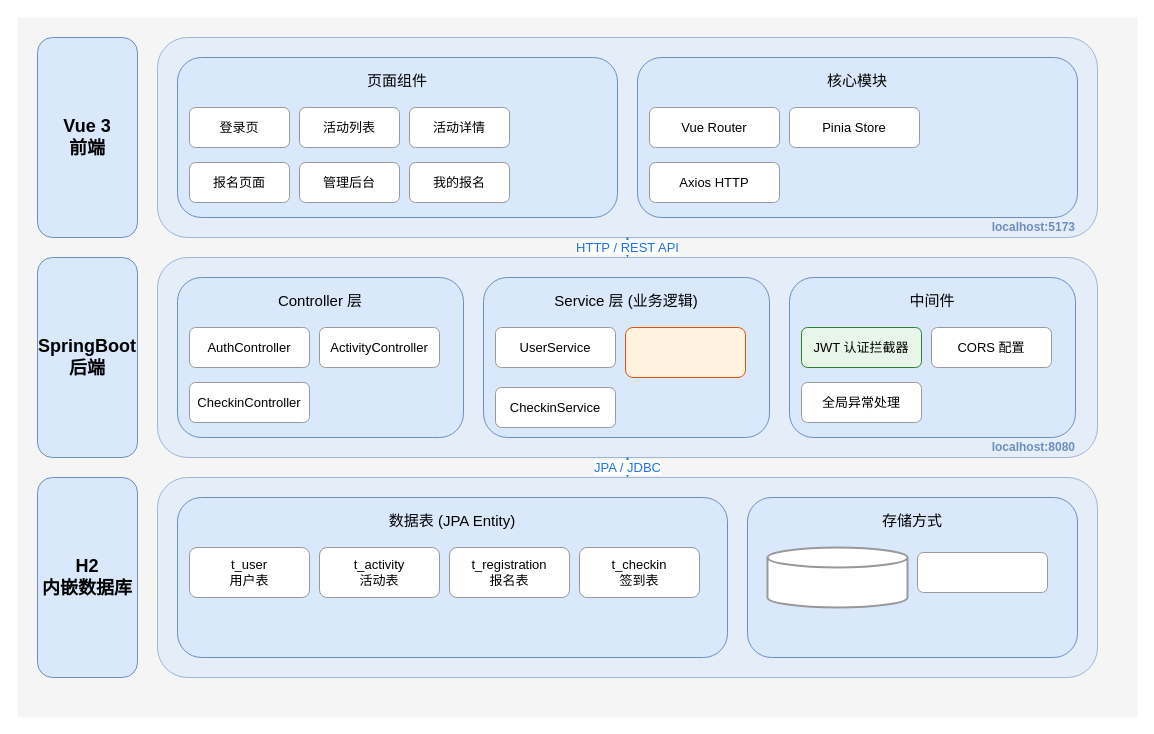
This 1154x734 diagram has some shape labels left out. Here are the shapes that lost their labels. From the top down, the centre of each, then its label:
the point at 685,352: ActivityService (行锁防超卖)
the point at 837,577: H2 文件数据库
the point at 982,572: data.sql 初始化
